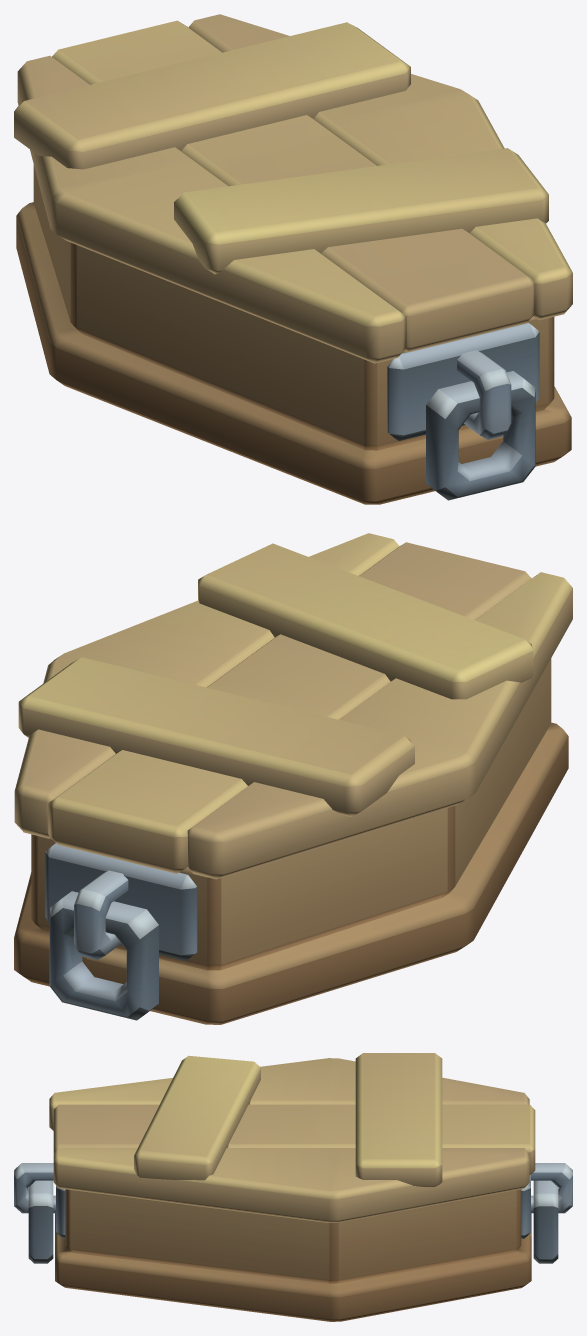
File: coffin.fbx
3 renders of one model, top to bottom at view 1: azimuth 30°, elevation 25°; view 2: azimuth 150°, elevation 25°; view 3: azimuth 270°, elevation 25°, orthographic. The views are drawn at different scales.
Visible parts, largest first — view 1: coffin_lid, coffin; view 2: coffin_lid, coffin; view 3: coffin_lid, coffin.
Part boxes in pixels (left/top/right/bottom): coffin_lid: left=14, top=14, right=572, bottom=363; coffin: left=16, top=165, right=571, bottom=504; coffin_lid: left=14, top=533, right=572, bottom=879; coffin: left=14, top=658, right=568, bottom=1024; coffin_lid: left=49, top=1053, right=535, bottom=1222; coffin: left=14, top=1163, right=572, bottom=1321.
Size of the model in its own units: 140 by 69.61 by 238.
Materials: 1 (1 with a texture image).
